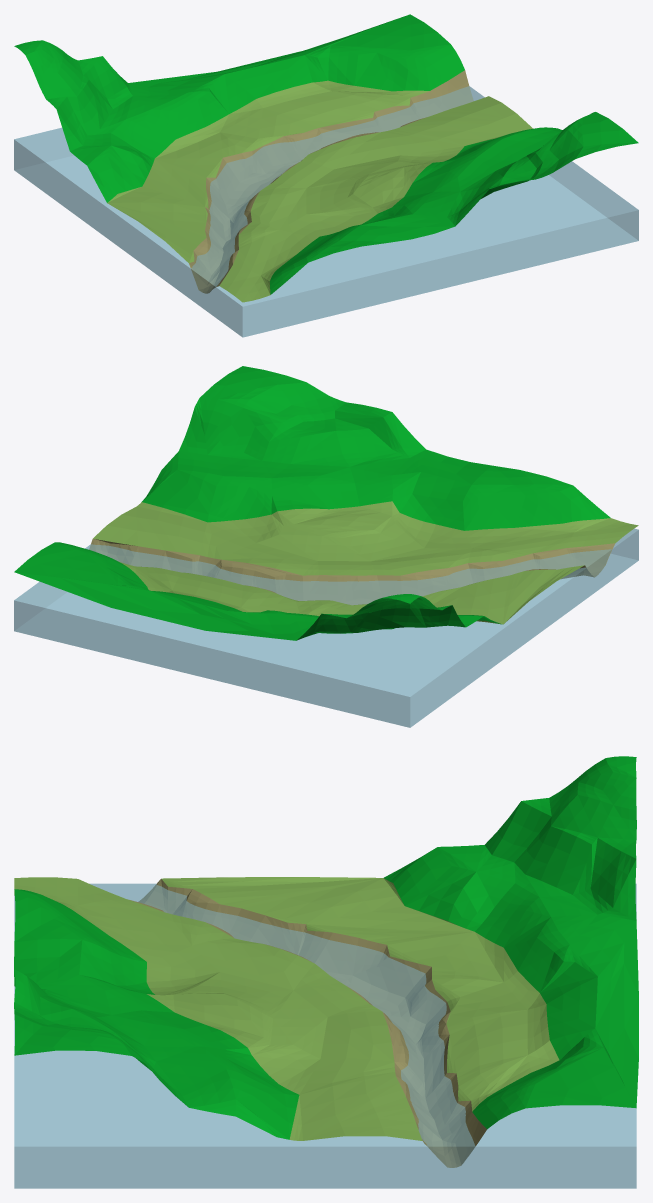
The model's file is LowPolyLandOne.fbx.
3 views of the same model, one above another, from view 1: azimuth 30°, elevation 25°; view 2: azimuth 150°, elevation 25°; view 3: azimuth 270°, elevation 25° (orthographic). The views are drawn at different scales.
Parts seen in each view (by area): view 1: Land, Water; view 2: Land, Water; view 3: Land, Water.
Part boxes in pixels (bbox=[...]): Land: bbox=[14, 14, 638, 302]; Water: bbox=[14, 86, 638, 337]; Land: bbox=[14, 366, 638, 640]; Water: bbox=[14, 528, 638, 727]; Land: bbox=[14, 756, 638, 1167]; Water: bbox=[14, 883, 636, 1188].
Size of what is drawn, in the model's own units: 160 by 48.26 by 161.
